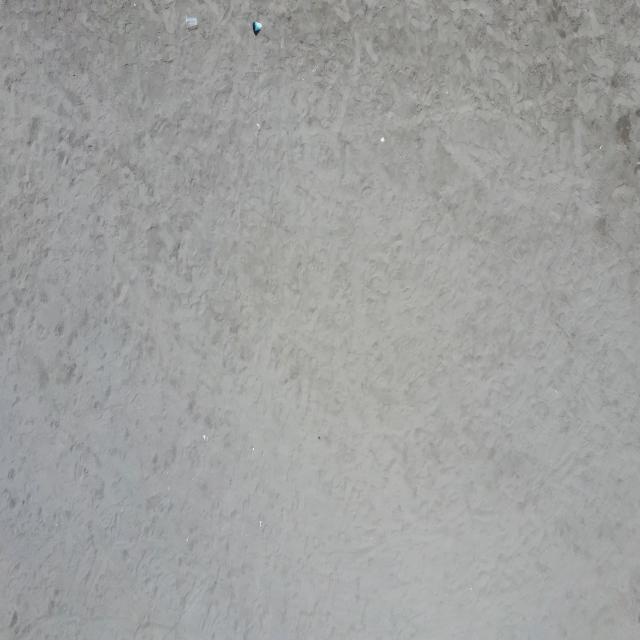takeaway-cup: (185, 16, 198, 28), (253, 22, 262, 32)
